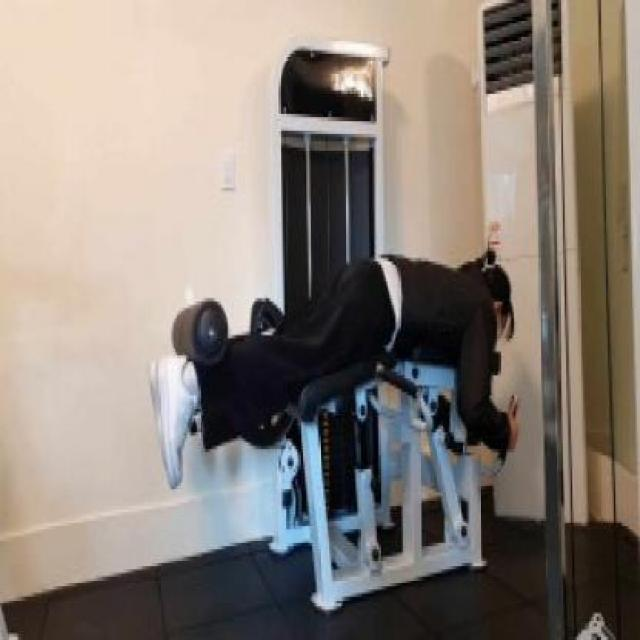reg curl machine: (148, 31, 529, 614)
